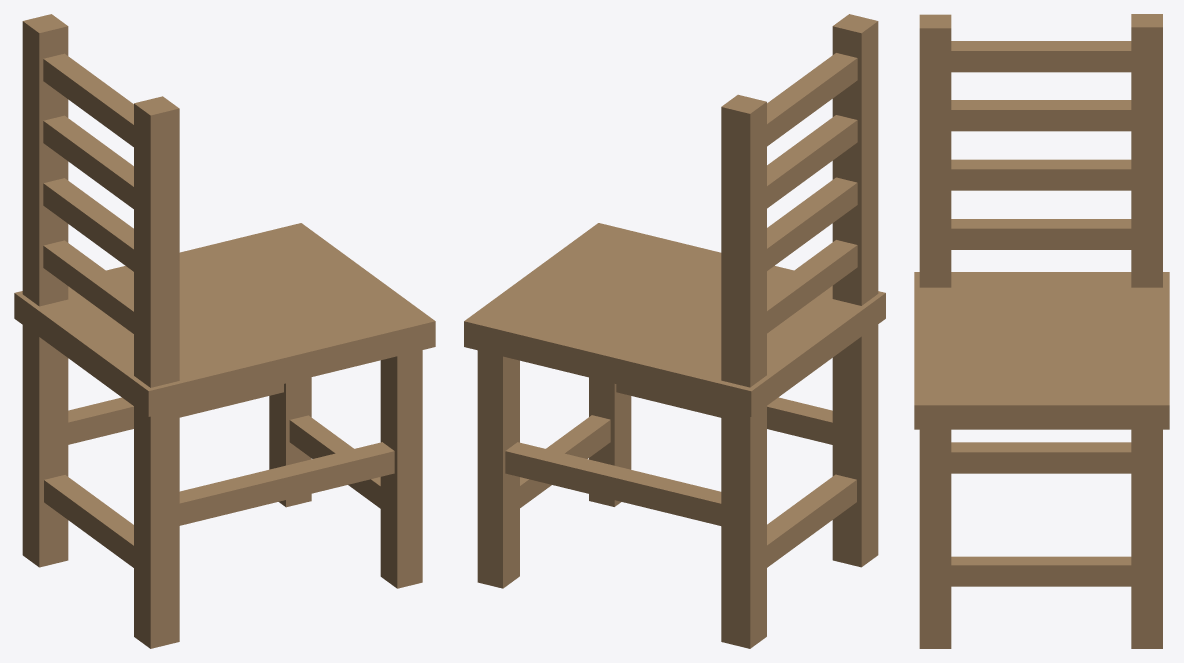
File: Chair.fbx
3 renders of one model, left to right at view 1: azimuth 30°, elevation 25°; view 2: azimuth 150°, elevation 25°; view 3: azimuth 270°, elevation 25°, orthographic. The views are drawn at different scales.
Parts seen in each view (by area): view 1: Cube; view 2: Cube; view 3: Cube.
Part boxes in pixels (<box>): Cube: <box>14,14,435,648</box>; Cube: <box>464,14,885,648</box>; Cube: <box>914,14,1169,648</box>.
Bounding box in the file's own units: 241 × 429 × 195.
